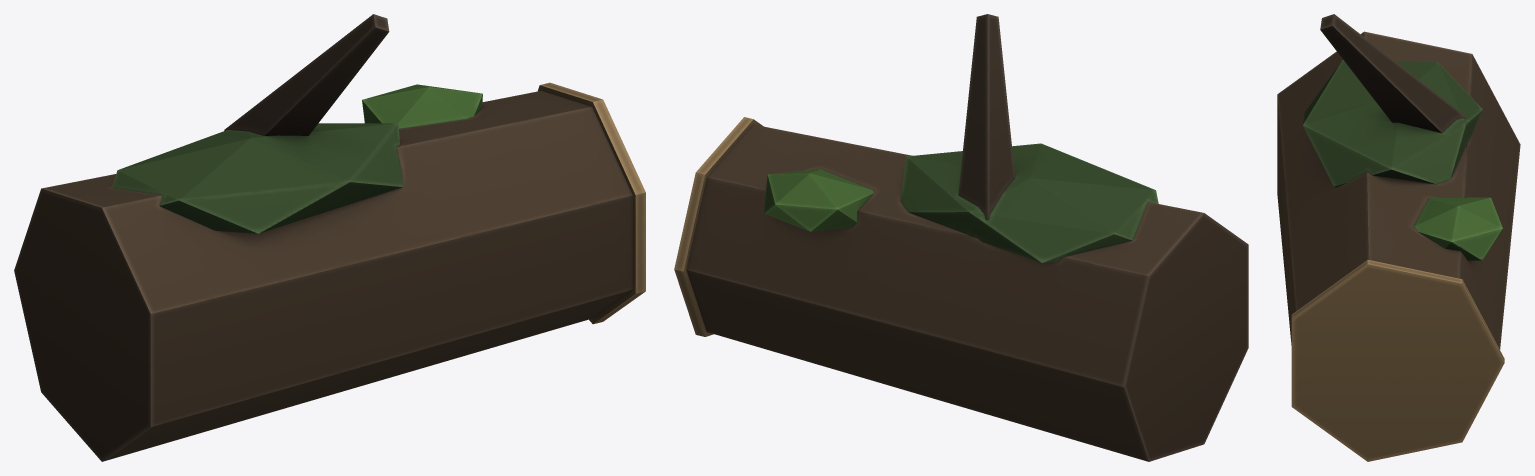
File: rock_log.glb
3 views of the same model, side by side, from view 1: azimuth 30°, elevation 25°; view 2: azimuth 150°, elevation 25°; view 3: azimuth 270°, elevation 25° (orthographic). The views are drawn at different scales.
Parts seen in each view (by area): view 1: rock_log; view 2: rock_log; view 3: rock_log.
Part boxes in pixels (<box>): rock_log: <box>14,14,645,461</box>; rock_log: <box>674,14,1248,461</box>; rock_log: <box>1277,14,1520,461</box>.
Bounding box in the file's own units: 0.97 × 0.7333 × 0.4562.
1 material, 1 textured.
